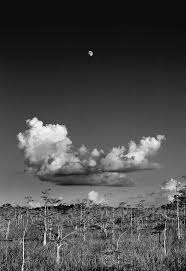moon: (85, 48, 96, 58)
